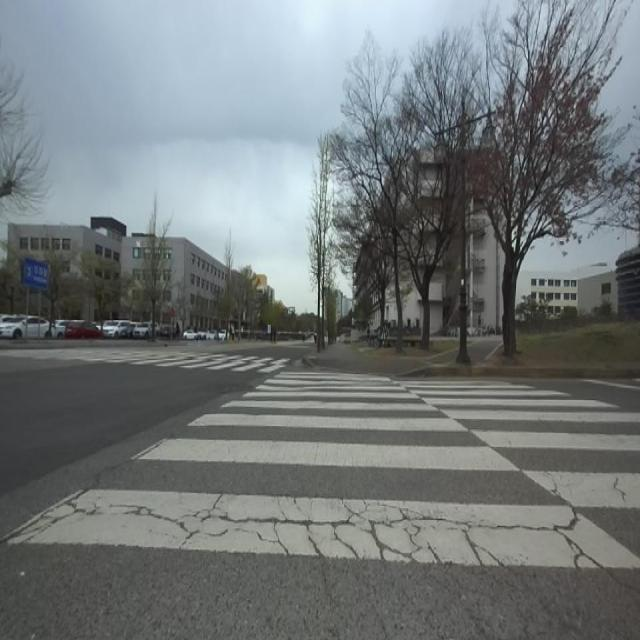sidewalk: (308, 344, 424, 373), (525, 360, 640, 368), (418, 357, 456, 366), (471, 359, 492, 364)
